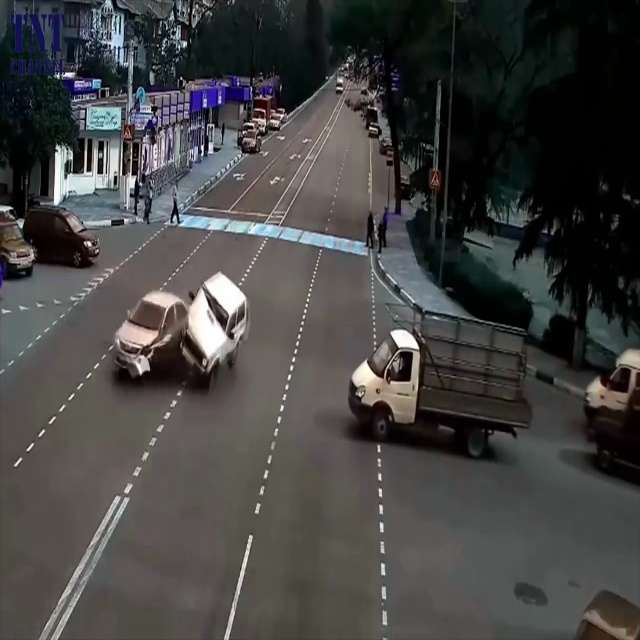acc: (96, 258, 259, 397)
